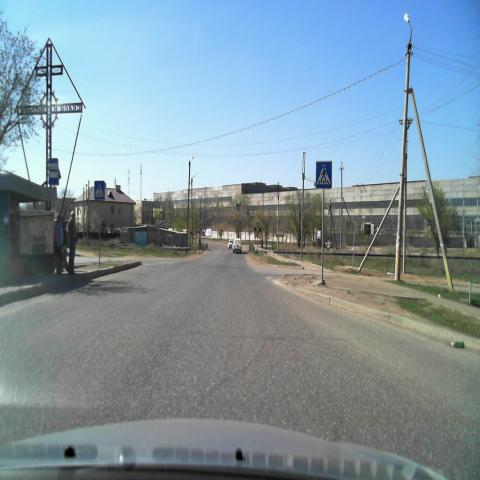5_16: (48, 158, 59, 186)
